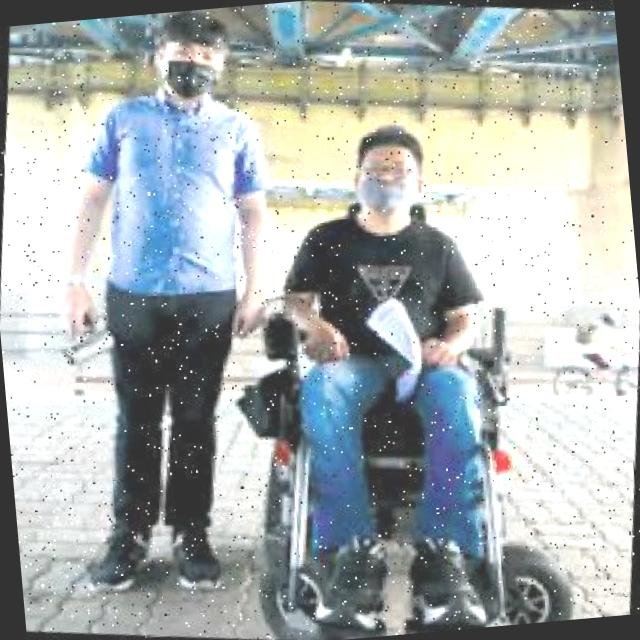Person: (191, 90, 626, 640), (0, 2, 327, 611)
